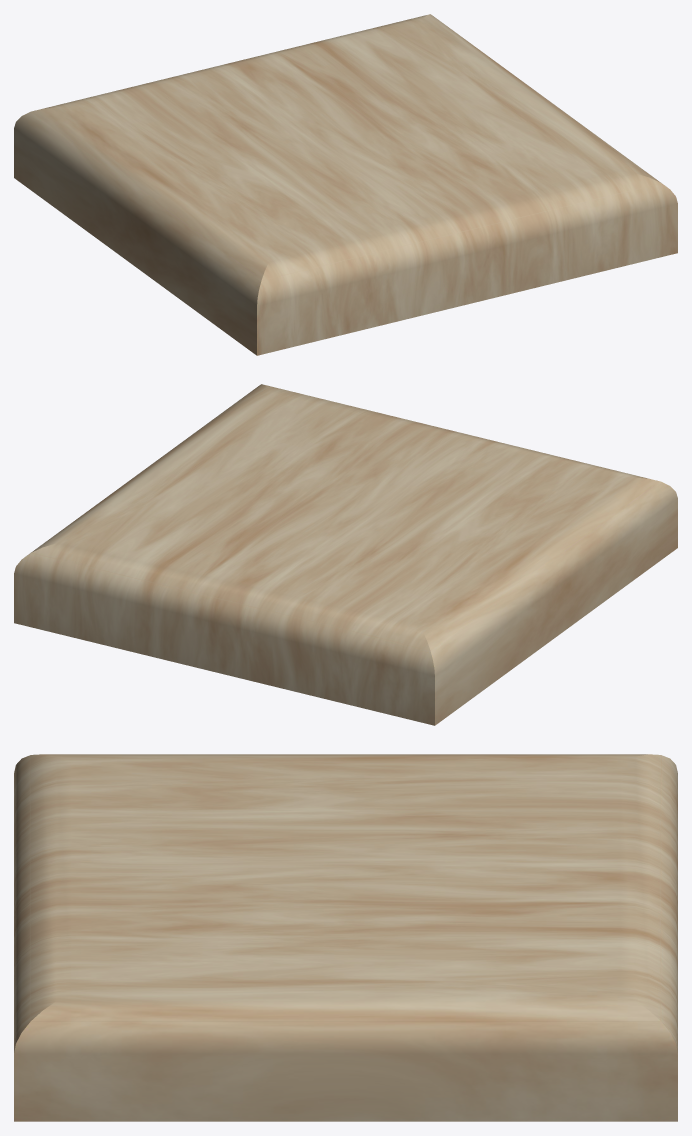
File: birch.gltf
3 views of the same model, one above another, from view 1: azimuth 30°, elevation 25°; view 2: azimuth 150°, elevation 25°; view 3: azimuth 270°, elevation 25° (orthographic). The views are drawn at different scales.
Visible parts, largest first — view 1: birch; view 2: birch; view 3: birch.
Boxes of the visible parts, x1,y1,x2,y2 form: birch: (14,14,677,355); birch: (14,384,677,725); birch: (14,754,677,1121).
Size of the model in its own units: 2.9 by 0.5 by 2.9.
1 material, 1 textured.
